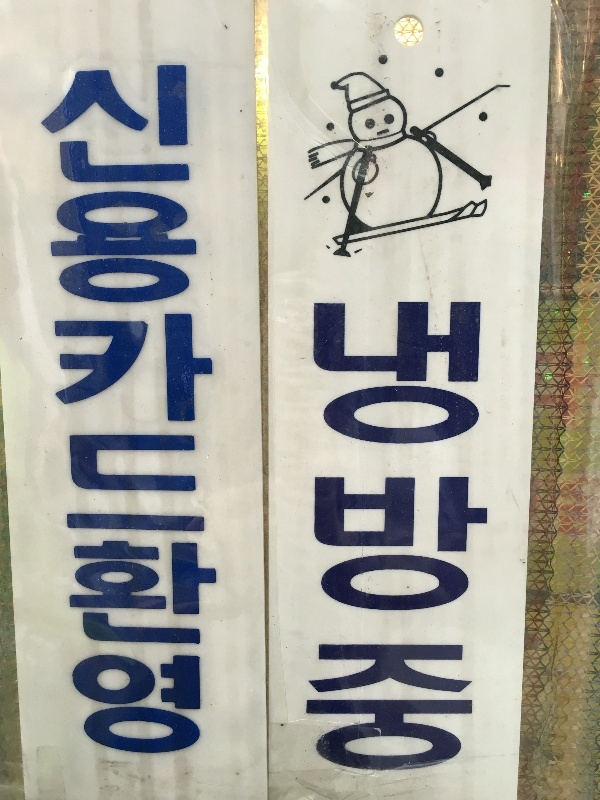text: (49, 54, 64, 762), (65, 54, 80, 762), (81, 54, 96, 762), (97, 54, 112, 762), (113, 54, 128, 762), (129, 54, 144, 762), (145, 54, 160, 762), (161, 54, 176, 762), (177, 54, 192, 762), (193, 54, 208, 762), (35, 54, 48, 762), (209, 54, 220, 762), (321, 292, 336, 778), (337, 292, 352, 778), (353, 292, 368, 778), (369, 292, 384, 778), (385, 292, 400, 778), (401, 292, 416, 778), (417, 292, 432, 778), (433, 292, 448, 778), (449, 292, 464, 778), (465, 292, 480, 778), (481, 292, 494, 778), (313, 292, 320, 778)
